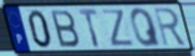0: (26, 8, 54, 49)
B: (48, 9, 81, 49)
Q: (128, 7, 163, 49)
R: (152, 6, 188, 48)
T: (77, 8, 101, 49)
Z: (101, 8, 136, 48)
